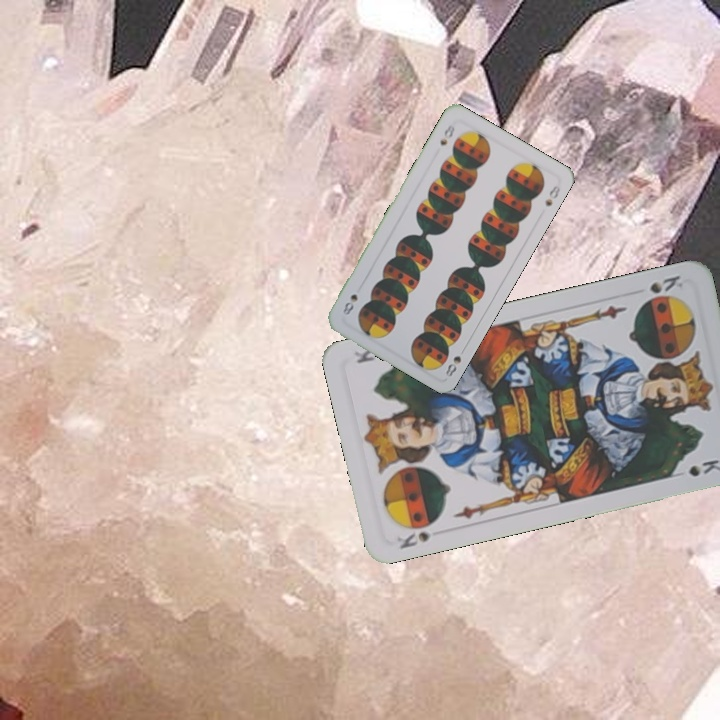S8: (441, 342, 469, 379), (436, 120, 458, 148)
SK: (392, 527, 435, 552), (645, 271, 686, 296)
